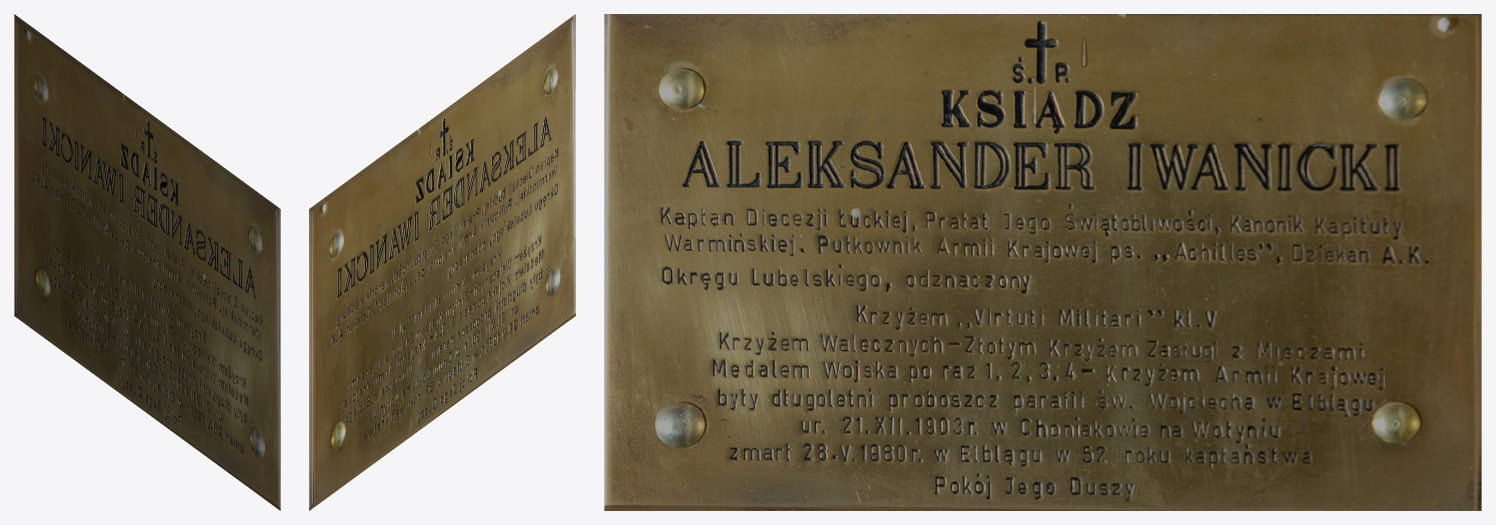
Rendered from 73. Ś.P. KSIĄDZ ALEKSANDER IWANICKI.glb.
The picture shows the model from 3 angles, left to right: view 1: azimuth 30°, elevation 25°; view 2: azimuth 150°, elevation 25°; view 3: azimuth 270°, elevation 25°; orthographic projection. The views are drawn at different scales.
Parts seen in each view (by area): view 1: Plane; view 2: Plane; view 3: Plane.
Boxes of the visible parts, bbox=[...] form: Plane: bbox=[14, 14, 280, 510]; Plane: bbox=[309, 14, 575, 510]; Plane: bbox=[604, 14, 1481, 510].
Bounding box in the file's own units: 0.0102 × 10 × 16.
Materials: 1 (1 with a texture image).
